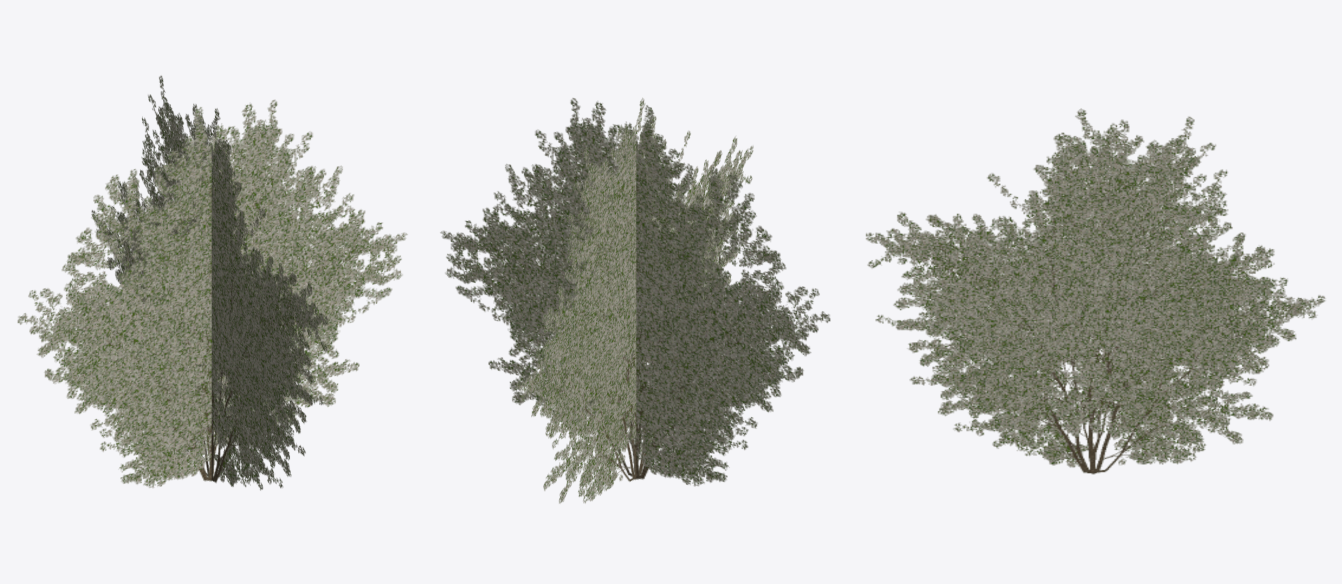
File: CrataegusMonogyna.glb
3 views of the same model, side by side, from view 1: azimuth 30°, elevation 25°; view 2: azimuth 150°, elevation 25°; view 3: azimuth 270°, elevation 25° (orthographic). The views are drawn at different scales.
Parts seen in each view (by area): view 1: mesh__mat_billboard_8; view 2: mesh__mat_billboard_8; view 3: mesh__mat_billboard_8.
Boxes of the visible parts, box(x1,y1,x2,y2) form: mesh__mat_billboard_8: box(17, 75, 407, 490); mesh__mat_billboard_8: box(440, 98, 830, 503); mesh__mat_billboard_8: box(865, 108, 1325, 474).
Bounding box in the file's own units: 6.63 × 6.09 × 6.97.
1 material, 1 textured.
